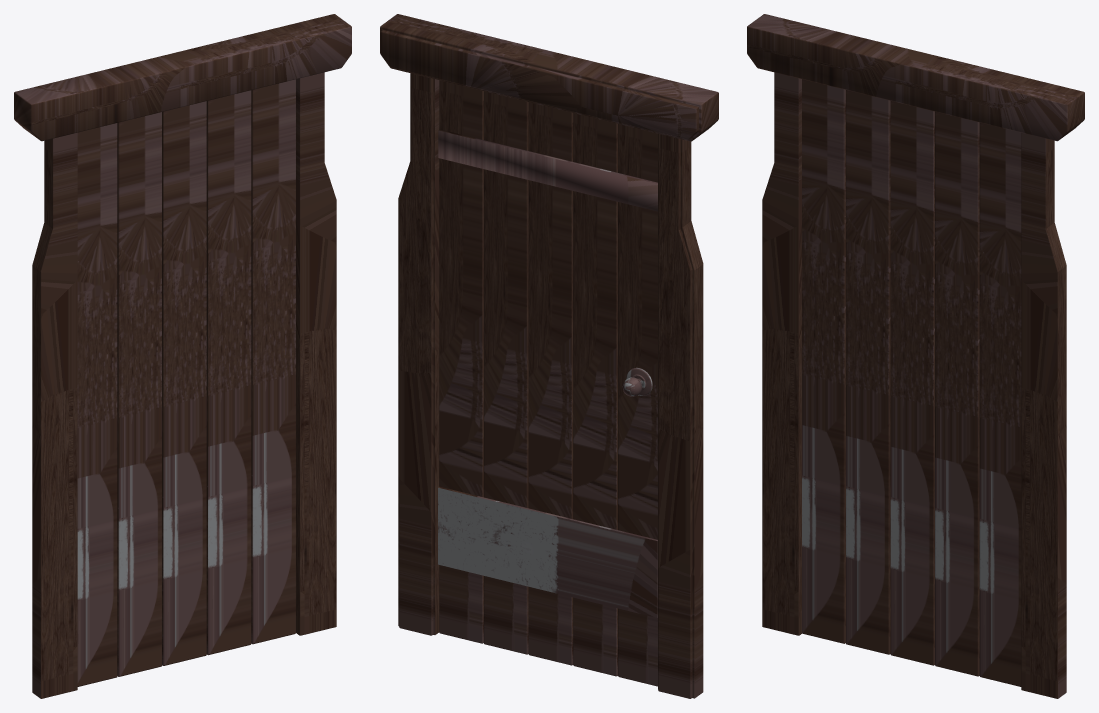
The model's file is Door.fbx.
3 views of the same model, side by side, from view 1: azimuth 30°, elevation 25°; view 2: azimuth 150°, elevation 25°; view 3: azimuth 330°, elevation 25° (orthographic).
Visible parts, largest first — view 1: Cube.094; view 2: Cube.094; view 3: Cube.094.
Part boxes in pixels (x1,y1,x2,y2): Cube.094: (14,14,351,698); Cube.094: (380,14,718,698); Cube.094: (747,14,1084,698).
Bounding box in the file's own units: 268 × 478 × 30.52.
